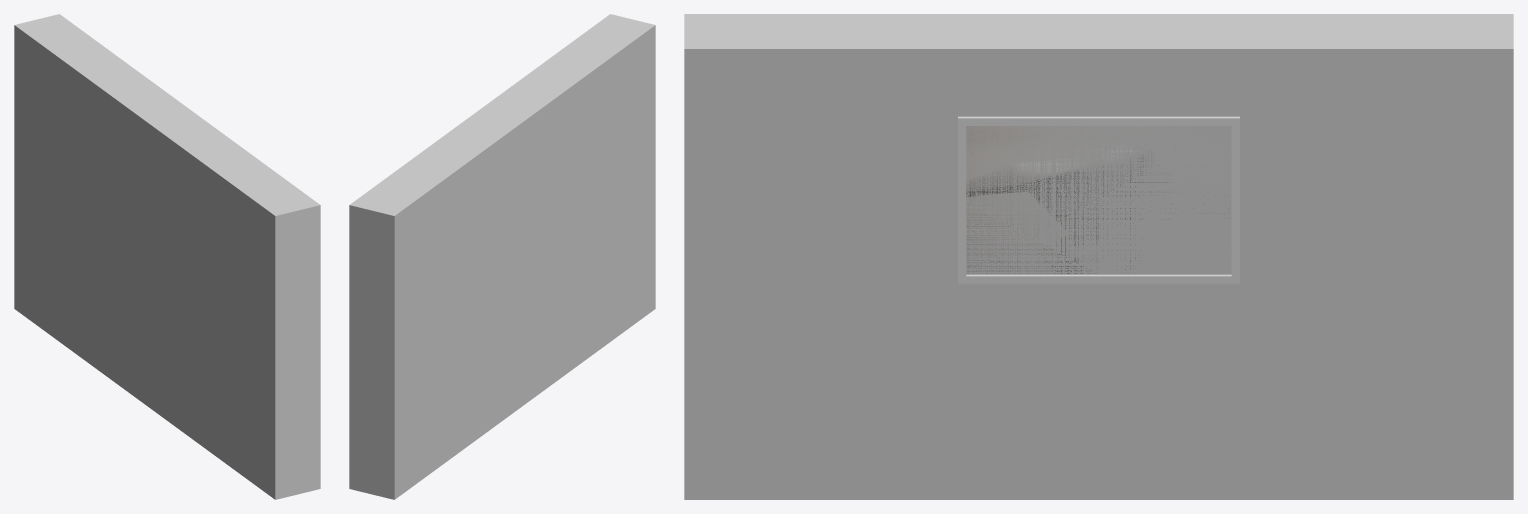
The model's file is wall_pic_5x3x0.5.glb.
3 renders of one model, left to right at view 1: azimuth 30°, elevation 25°; view 2: azimuth 150°, elevation 25°; view 3: azimuth 270°, elevation 25°, orthographic. The views are drawn at different scales.
Visible parts, largest first — view 1: Cube; view 2: Cube; view 3: Cube, model, Cube.003.
Part boxes in pixels (x1,y1,x2,y2): Cube: (14, 14, 320, 499); Cube: (349, 14, 655, 499); Cube: (684, 14, 1513, 499); model: (966, 126, 1231, 274); Cube.003: (958, 116, 1239, 283).
Bounding box in the file's own units: 0.525 × 3 × 5.
2 materials, 1 textured.
